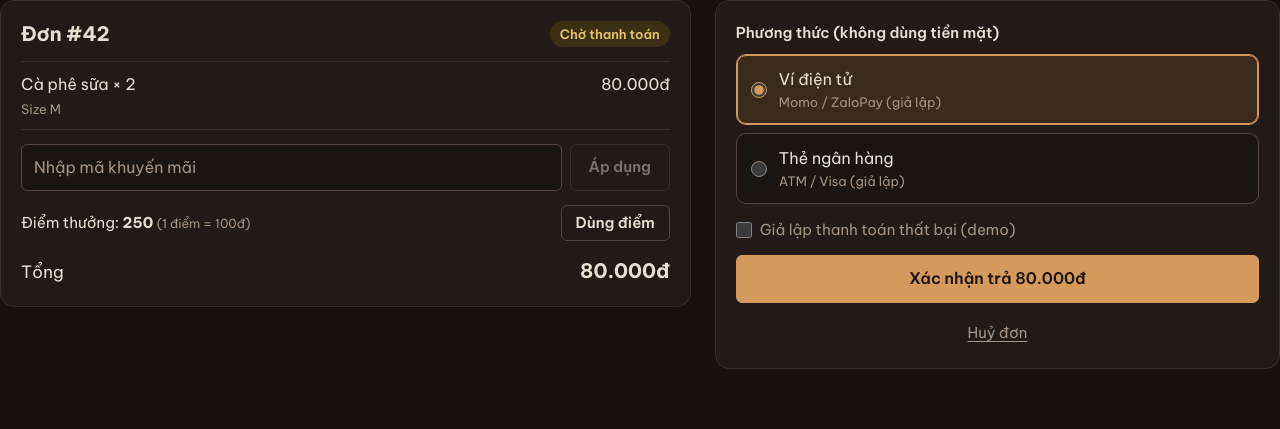
Test: Checkout — đổi điểm thưởng (FR-25) › bỏ dùng điểm: trả về tổng ban đầu
Click the button "Dùng điểm" at (615,223), box [560,205,670,241]
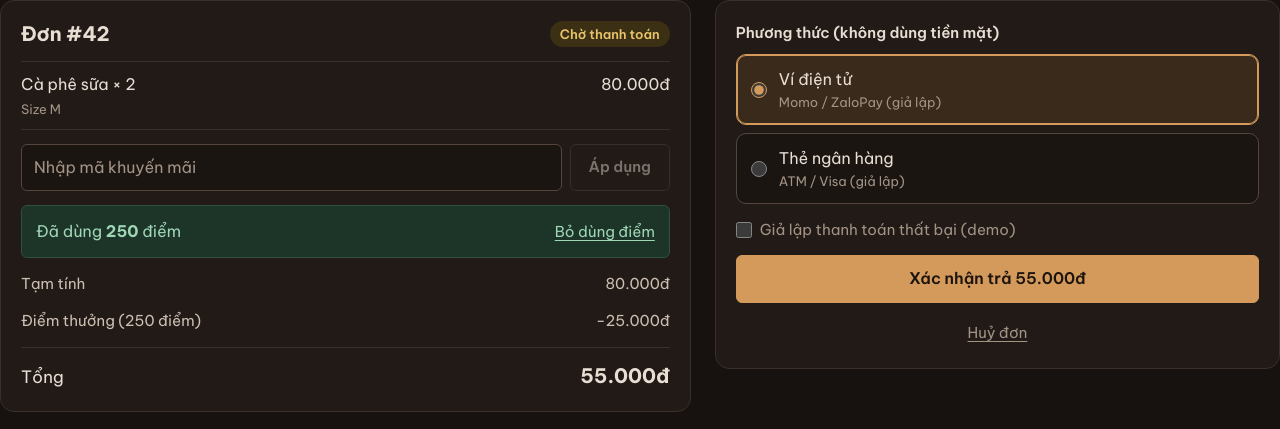
Click the button "Bỏ dùng điểm" at (605,232), box [555,216,655,247]
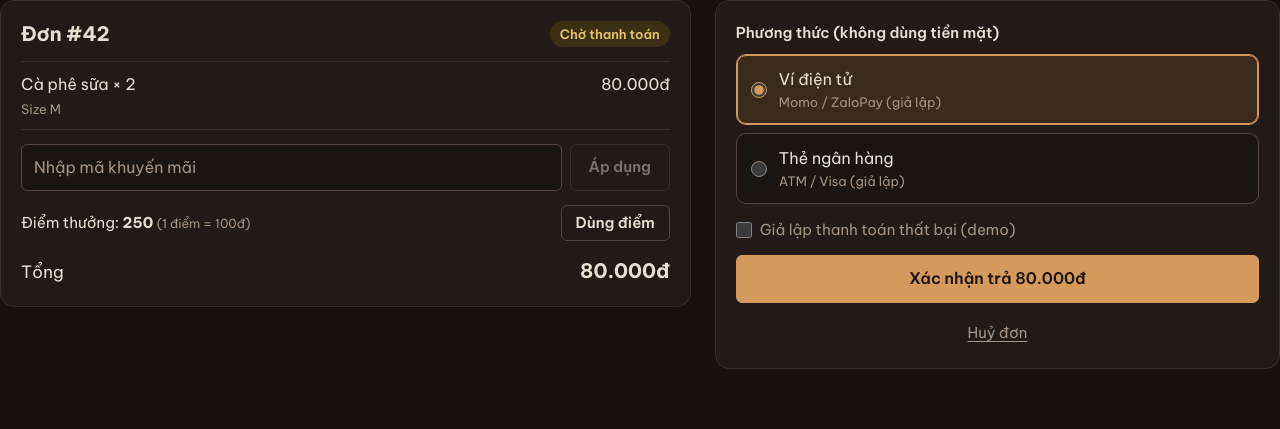
Expected: the text with test id "order-total" reads "80.000đ", [580,258,670,283]
Expected: the element with test id "points-applied" is gone
